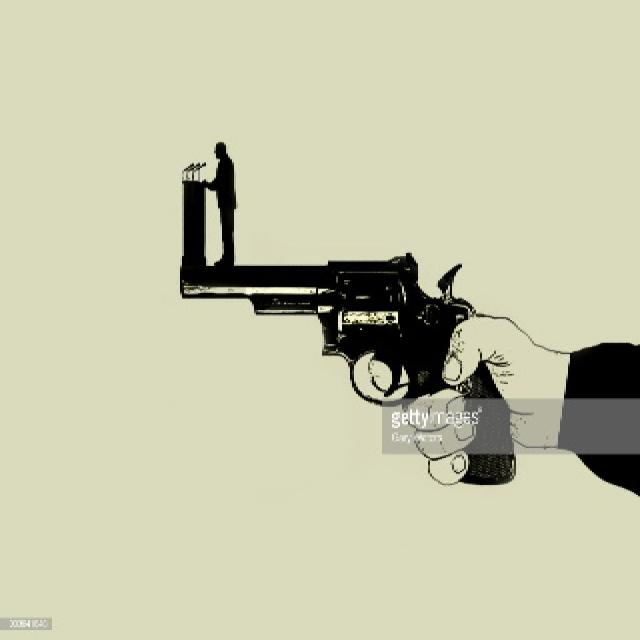handgun: (165, 130, 523, 489)
